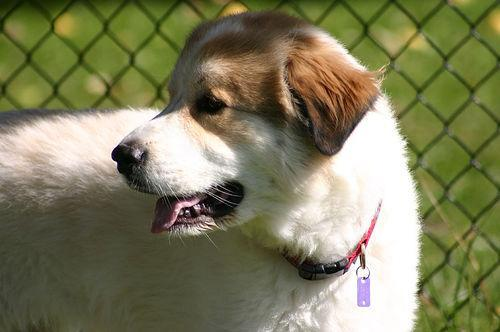Great_Pyrenees: (0, 12, 419, 331)
